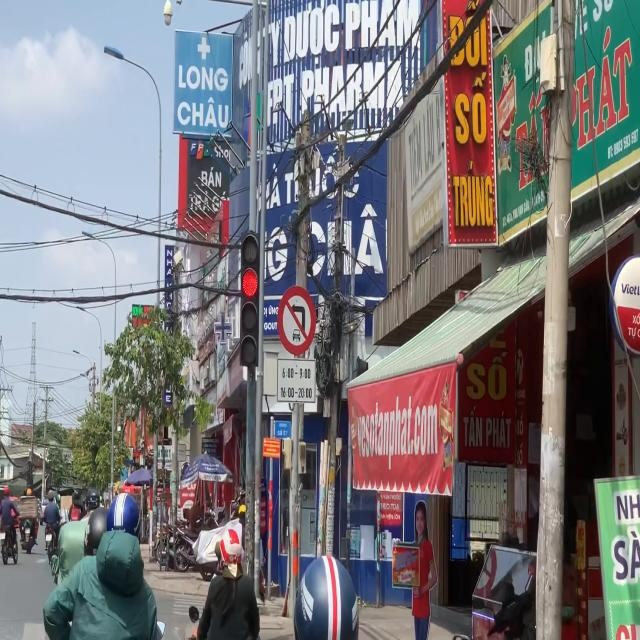bien_cam: (277, 285, 316, 356)
